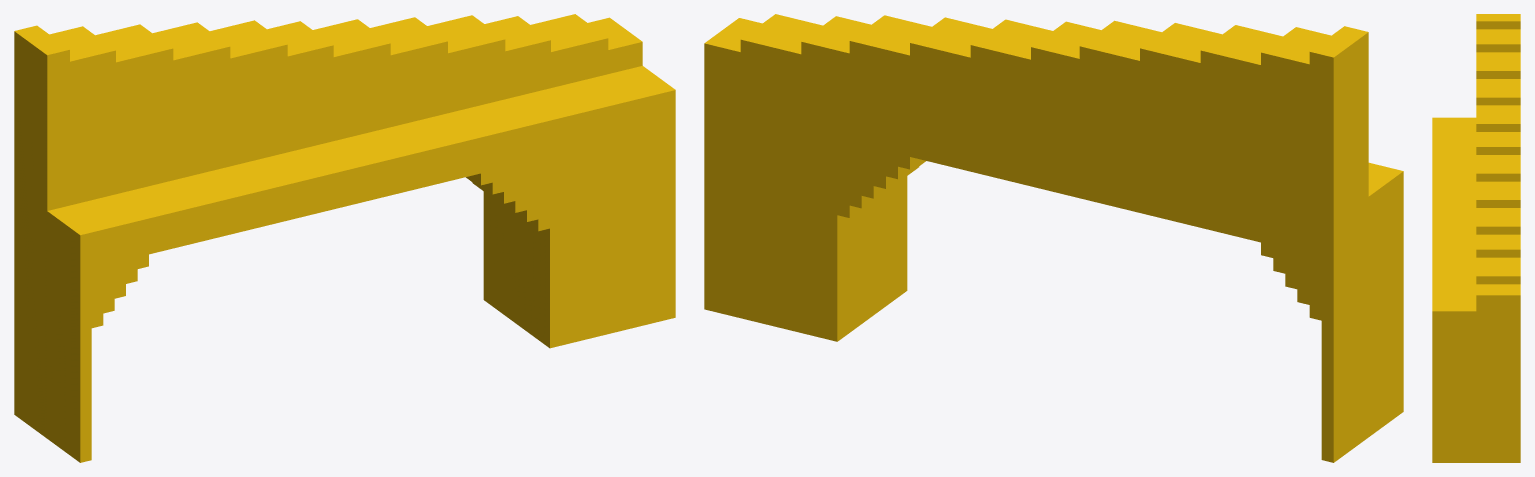
Rendered from school_bus_front_wing.glb.
3 renders of one model, left to right at view 1: azimuth 30°, elevation 25°; view 2: azimuth 150°, elevation 25°; view 3: azimuth 270°, elevation 25°, orthographic. The views are drawn at different scales.
Parts seen in each view (by area): view 1: body:compound; view 2: body:compound; view 3: body:compound.
Boxes of the visible parts, x1=… form: body:compound: x1=14, y1=14, x2=675, y2=462; body:compound: x1=704, y1=14, x2=1403, y2=462; body:compound: x1=1432, y1=14, x2=1520, y2=462.
Bounding box in the file's own units: 1.62 × 1 × 0.3125.
